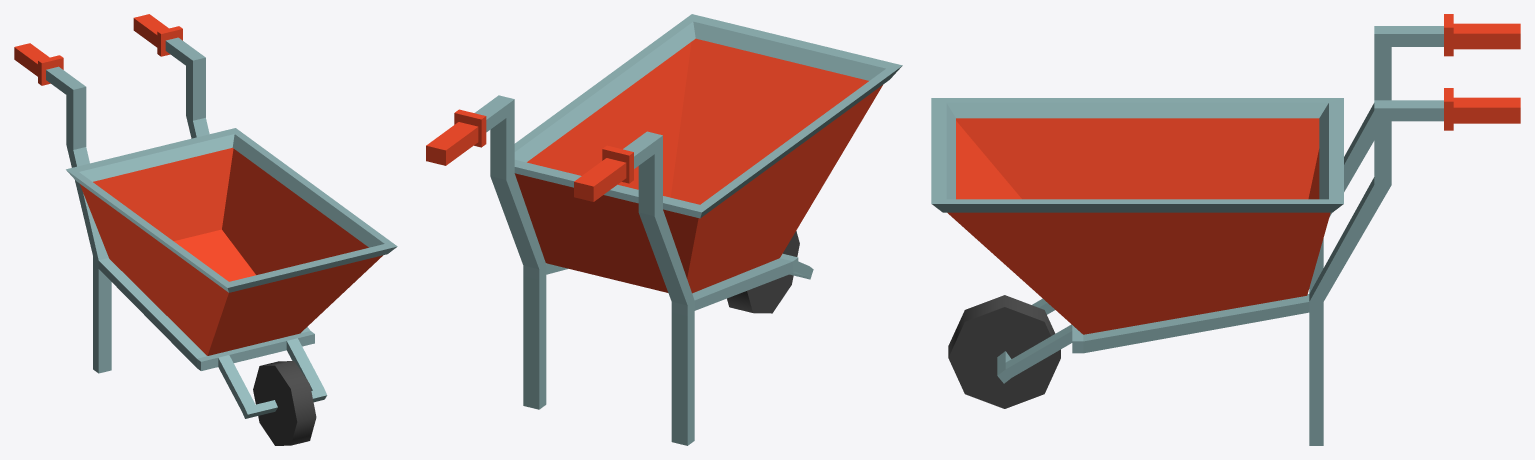
File: Waste picker_1.FBX
3 renders of one model, left to right at view 1: azimuth 30°, elevation 25°; view 2: azimuth 150°, elevation 25°; view 3: azimuth 270°, elevation 25°, orthographic. The views are drawn at different scales.
Visible parts, largest first — view 1: Waste picker_1; view 2: Waste picker_1; view 3: Waste picker_1.
Boxes of the visible parts, box(x1,y1,x2,y2) form: Waste picker_1: box(14, 14, 397, 445); Waste picker_1: box(426, 14, 902, 445); Waste picker_1: box(931, 14, 1520, 445).
Bounding box in the file's own units: 0.6829 × 1.05 × 1.61.
1 material, 1 textured.
